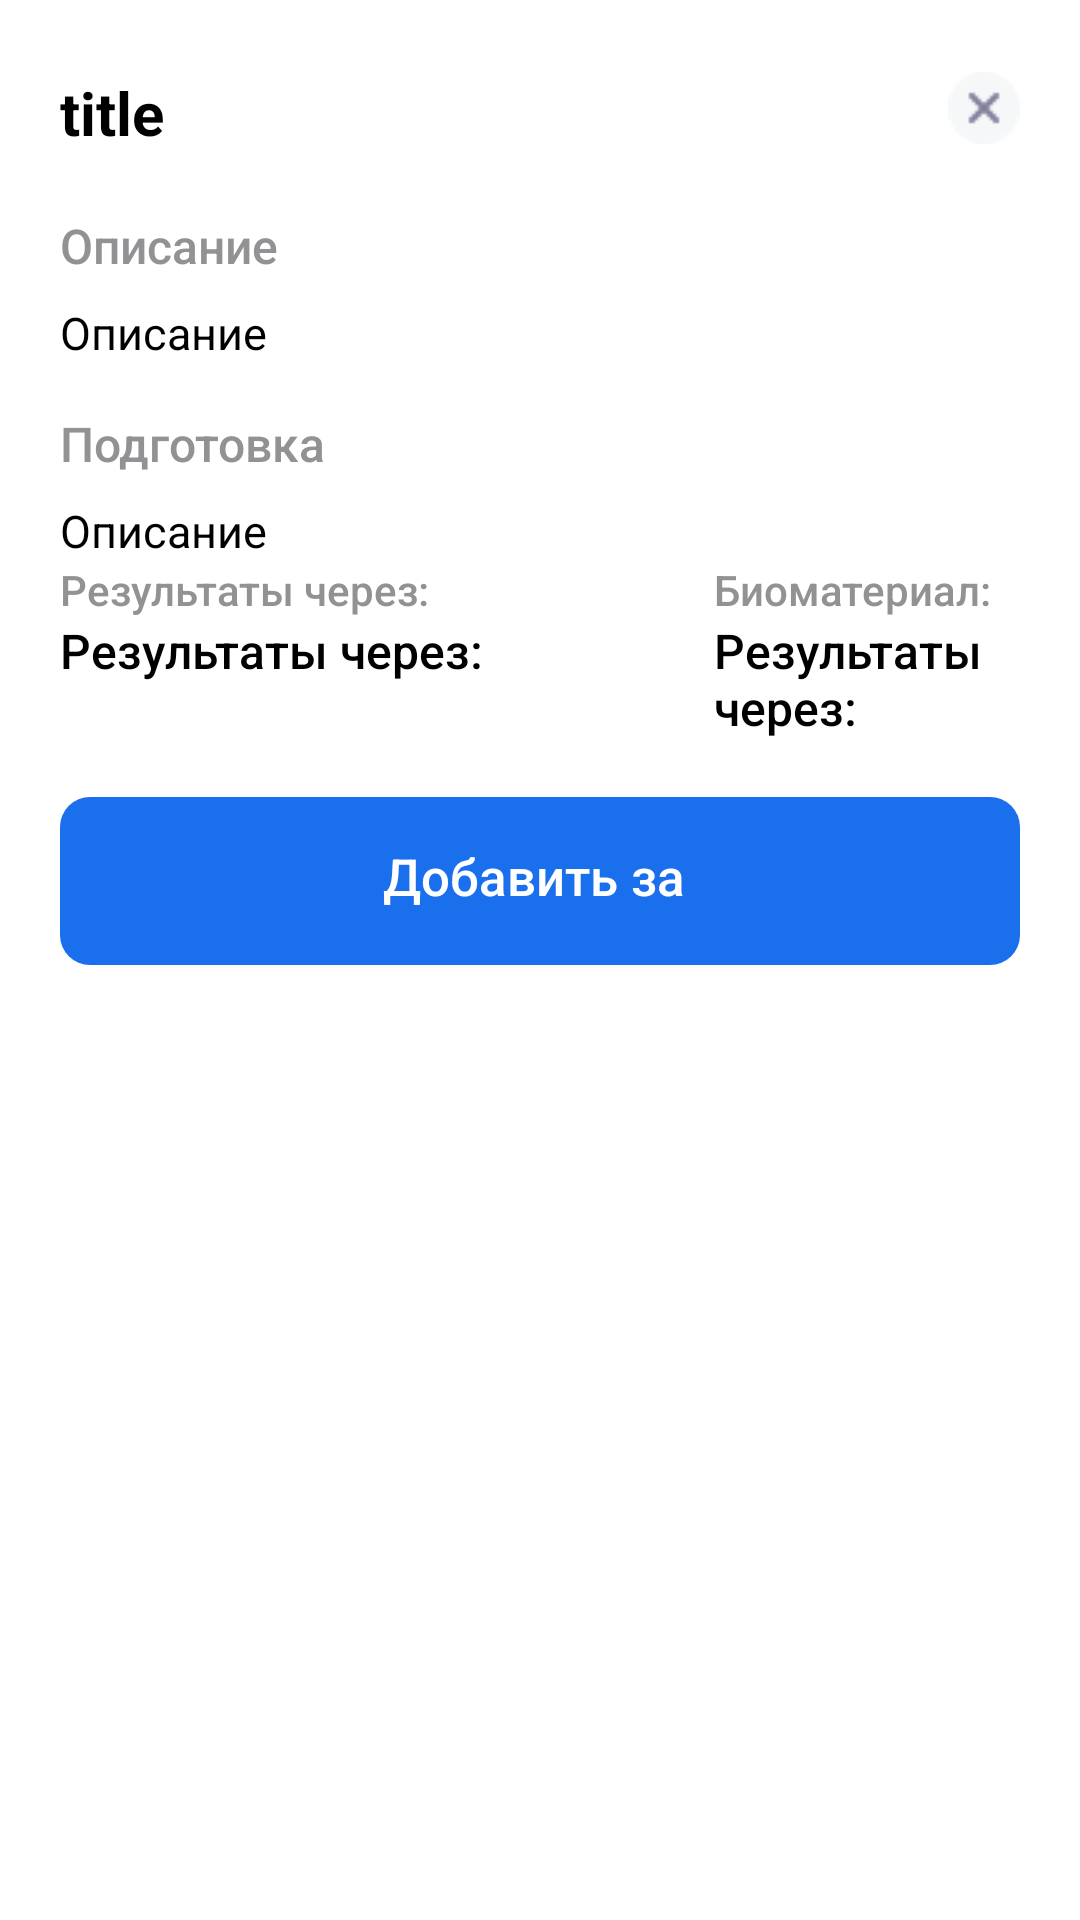

Screen size 1080px x 1920px. Icon name, then its center in pixels as (x,y):
close: (984,108)
